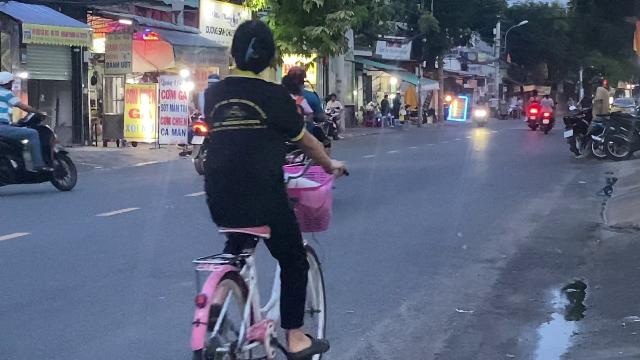helmet: (0, 70, 14, 89)
motorcyclist: (0, 68, 80, 204)
